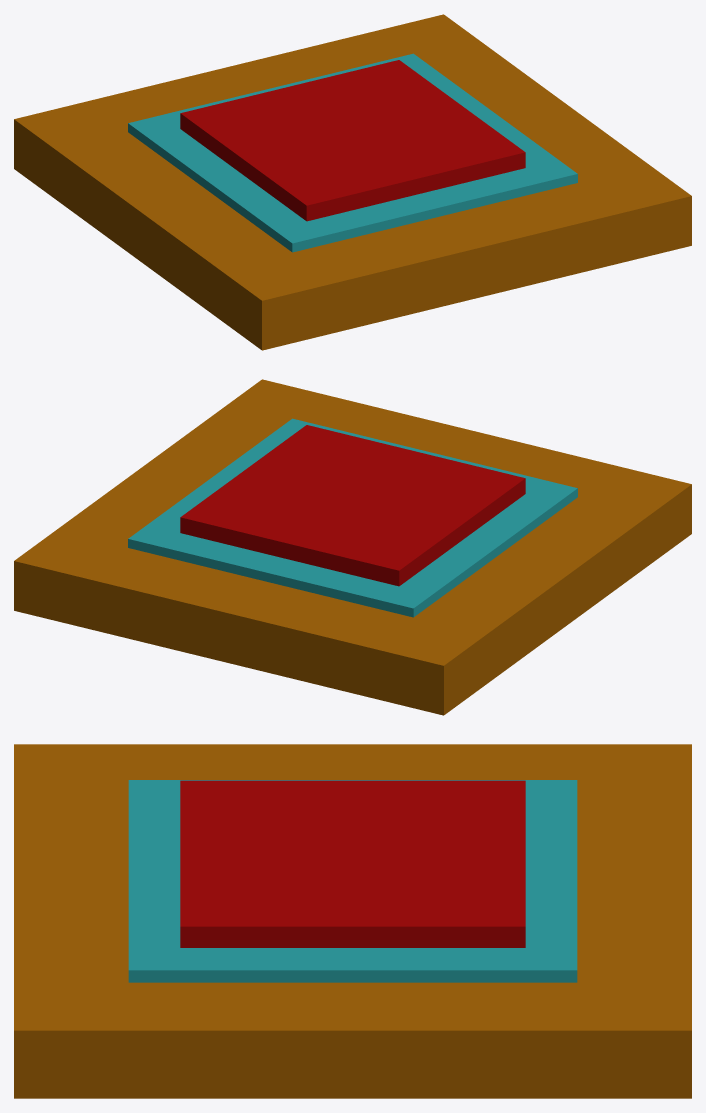
File: goal.obj
3 views of the same model, one above another, from view 1: azimuth 30°, elevation 25°; view 2: azimuth 150°, elevation 25°; view 3: azimuth 270°, elevation 25° (orthographic). The views are drawn at different scales.
Visible parts, largest first — view 1: Cube.005_Cube.008; view 2: Cube.005_Cube.008; view 3: Cube.005_Cube.008.
Part boxes in pixels (<box>): Cube.005_Cube.008: <box>14,14,691,350</box>; Cube.005_Cube.008: <box>14,379,691,715</box>; Cube.005_Cube.008: <box>14,744,691,1098</box>.
Bounding box in the file's own units: 0.7882 × 0.1307 × 0.7882.
